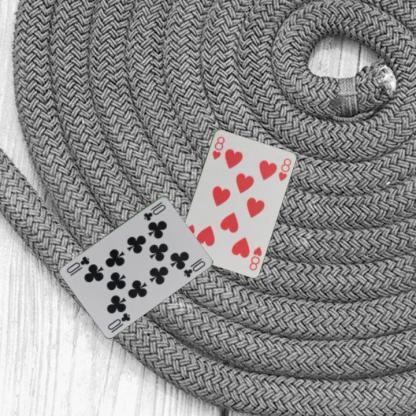10c: (141, 199, 167, 222), (105, 310, 132, 331)
8h: (246, 244, 263, 271), (210, 134, 226, 160)
